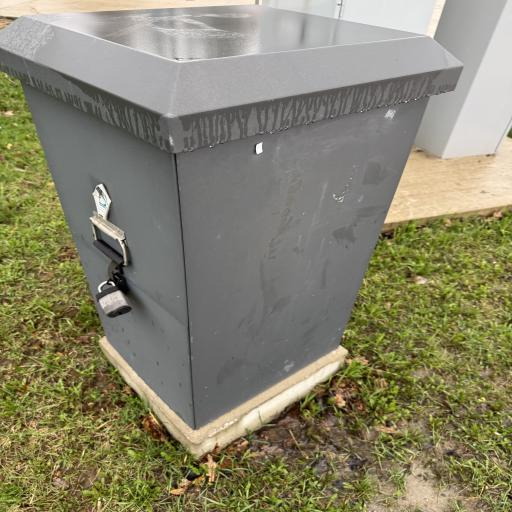Electrical Box: (1, 4, 466, 430)
